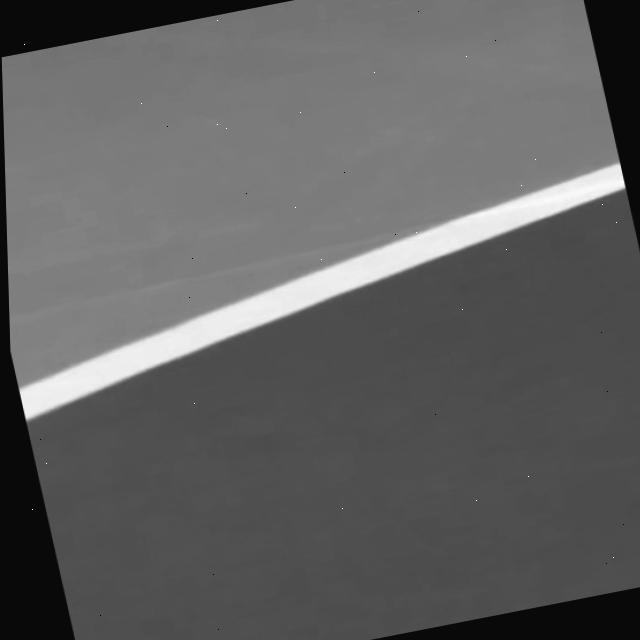right: (19, 163, 626, 420)
